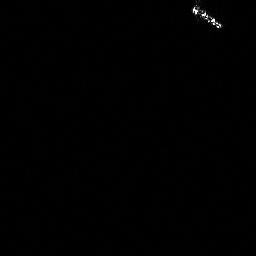ship: (188, 1, 225, 32)
